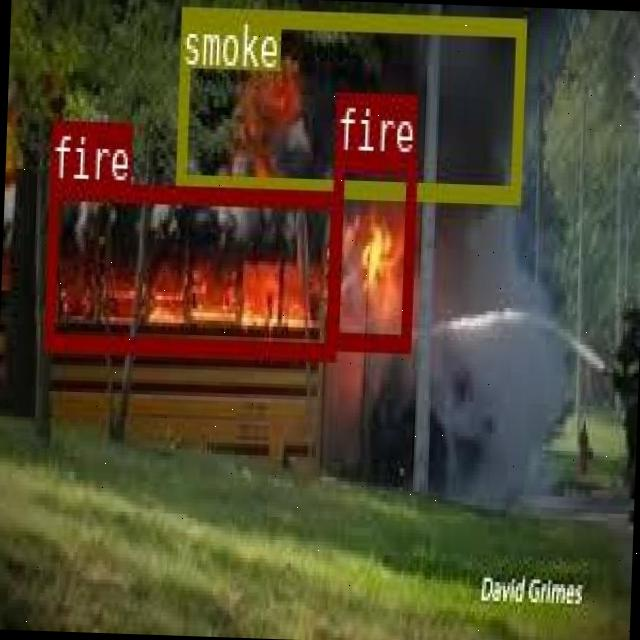fire: (41, 178, 338, 358), (327, 151, 415, 346)
smoke: (174, 6, 524, 200)
